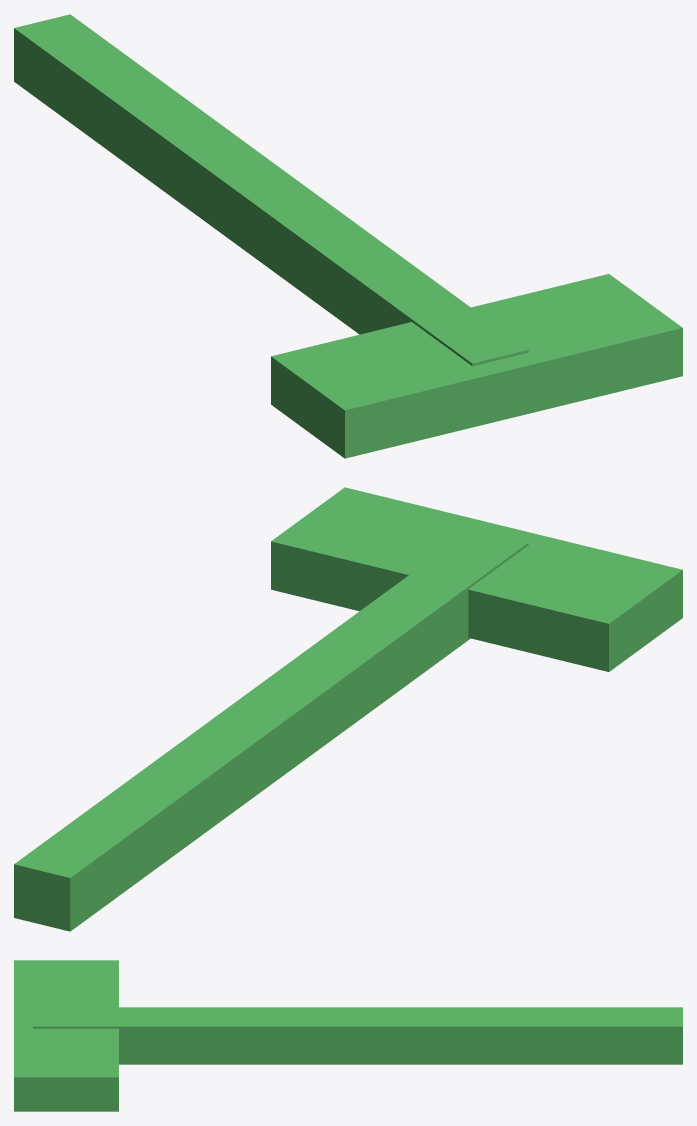
The model's file is pelekys_axe_2h_collision.glb.
3 views of the same model, one above another, from view 1: azimuth 30°, elevation 25°; view 2: azimuth 150°, elevation 25°; view 3: azimuth 270°, elevation 25° (orthographic). The views are drawn at different scales.
Visible parts, largest first — view 1: pelekys_axe_2h-col-haft, pelekys_axe_2h-col-head; view 2: pelekys_axe_2h-col-haft, pelekys_axe_2h-col-head; view 3: pelekys_axe_2h-col-haft, pelekys_axe_2h-col-head.
Boxes of the visible parts, left/top/right/bottom form: pelekys_axe_2h-col-haft: left=14, top=14, right=528, bottom=366; pelekys_axe_2h-col-head: left=271, top=274, right=682, bottom=458; pelekys_axe_2h-col-haft: left=14, top=529, right=528, bottom=931; pelekys_axe_2h-col-head: left=271, top=487, right=682, bottom=671; pelekys_axe_2h-col-haft: left=33, top=1007, right=682, bottom=1064; pelekys_axe_2h-col-head: left=14, top=960, right=118, bottom=1111.
Size of the model in its own units: 0.66 by 0.1 by 1.59.
